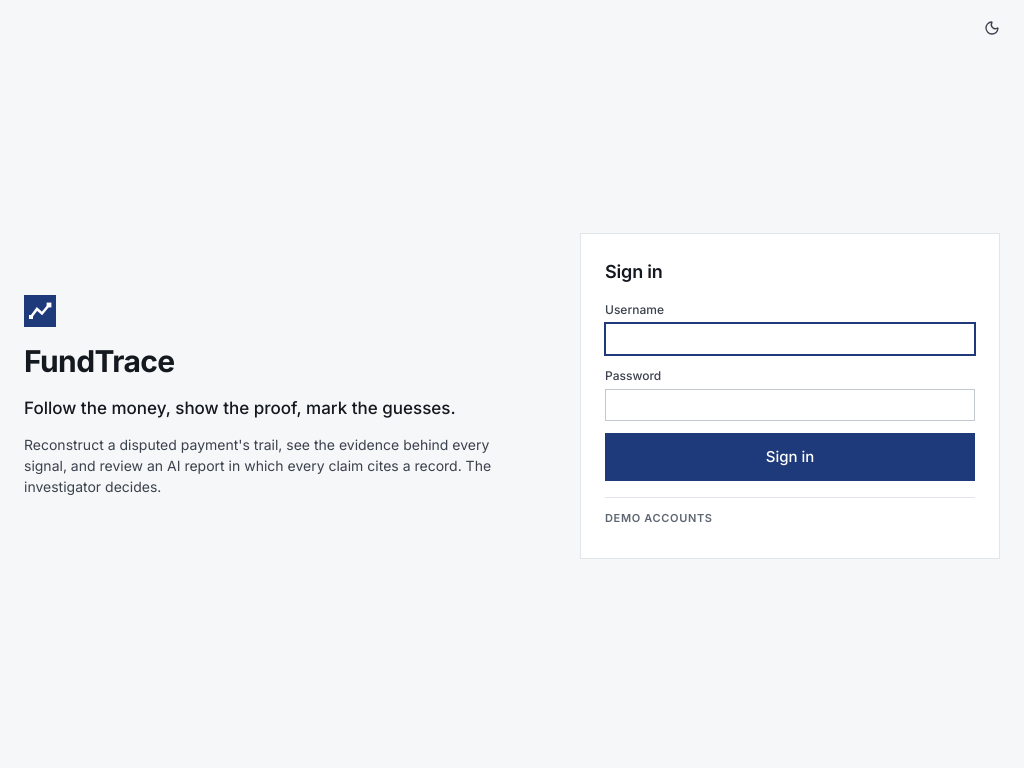
it: sign-in with MFA › offers a recovery code instead
The width and height of the screenshot is (1024, 768).
Step 1. Type "sup.meera" into the field labelled "Username" → x=790, y=339, box [605, 323, 975, 355]
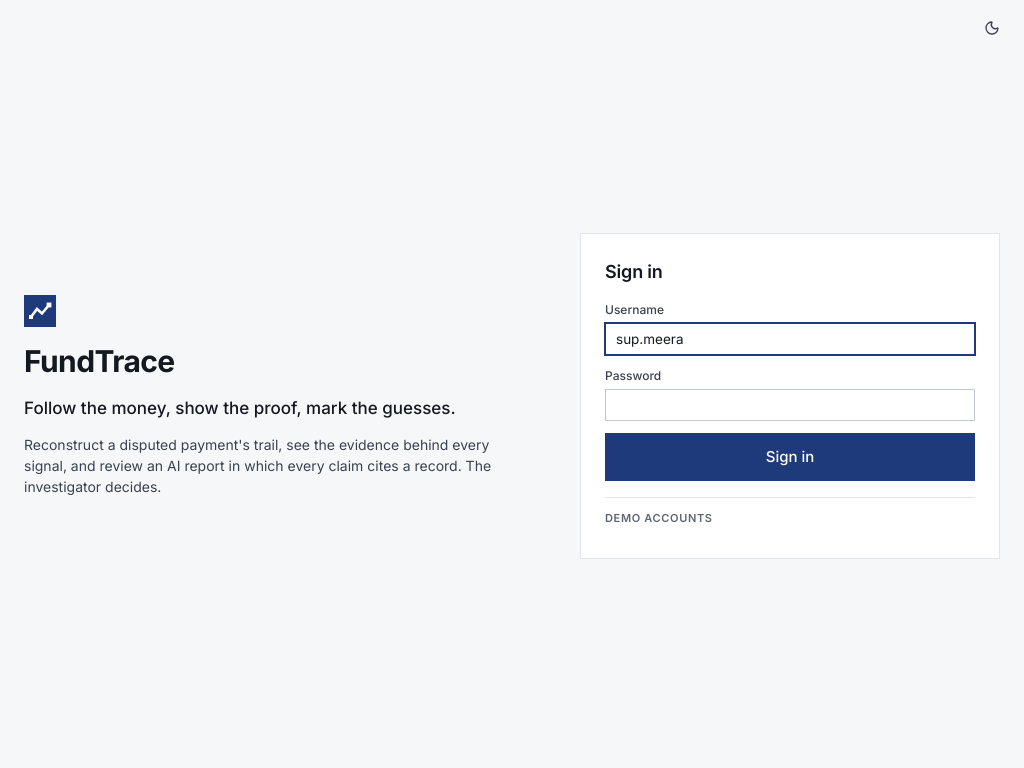
Step 2. Type "pw" into the password field labelled "Password" → x=790, y=405, box [605, 389, 975, 421]
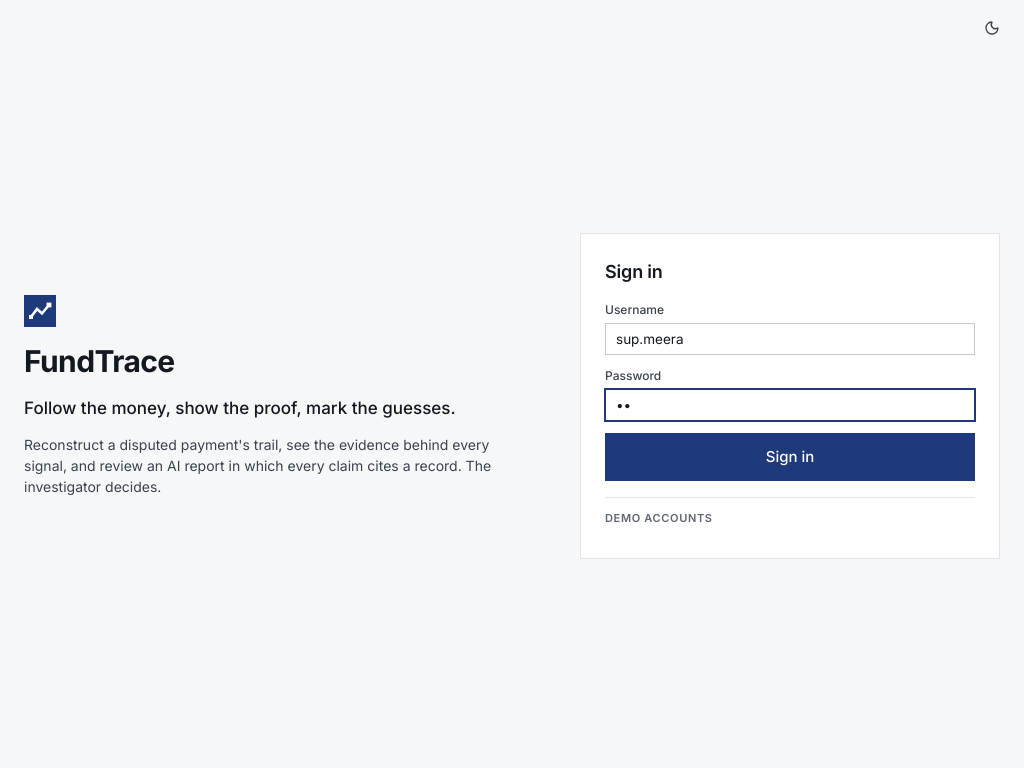
Step 3. Click the button "Sign in" → x=790, y=457, box [605, 433, 975, 481]
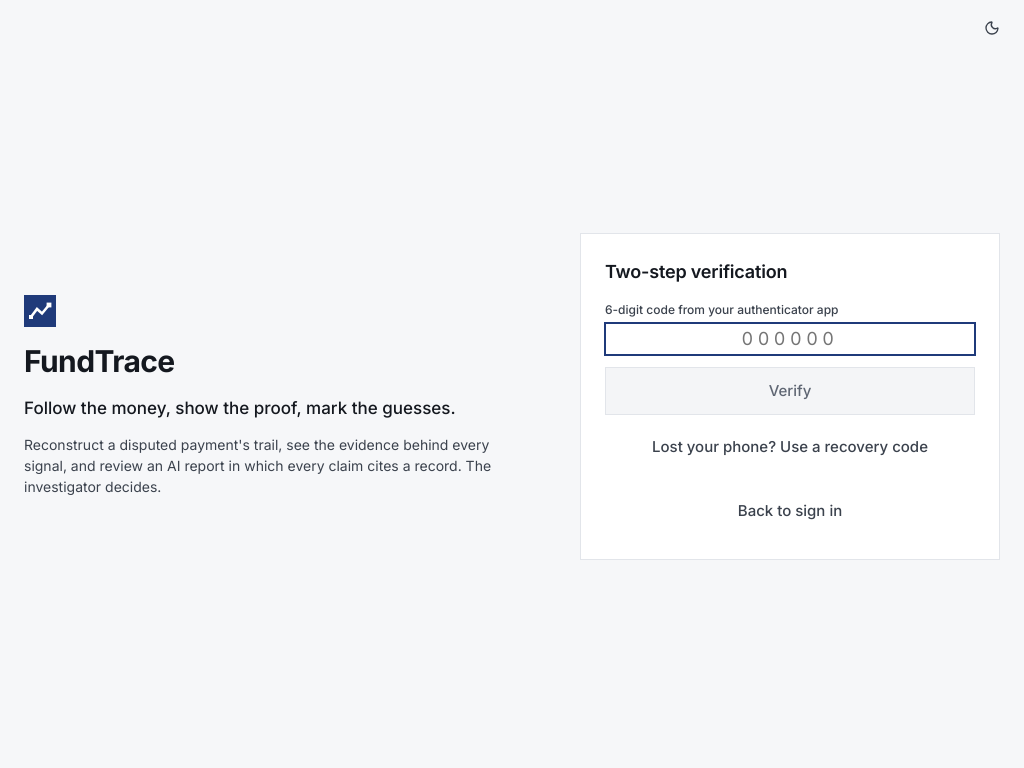
Step 4. Click the button "Lost your phone? Use a recovery code" → x=790, y=446, box [605, 422, 975, 470]
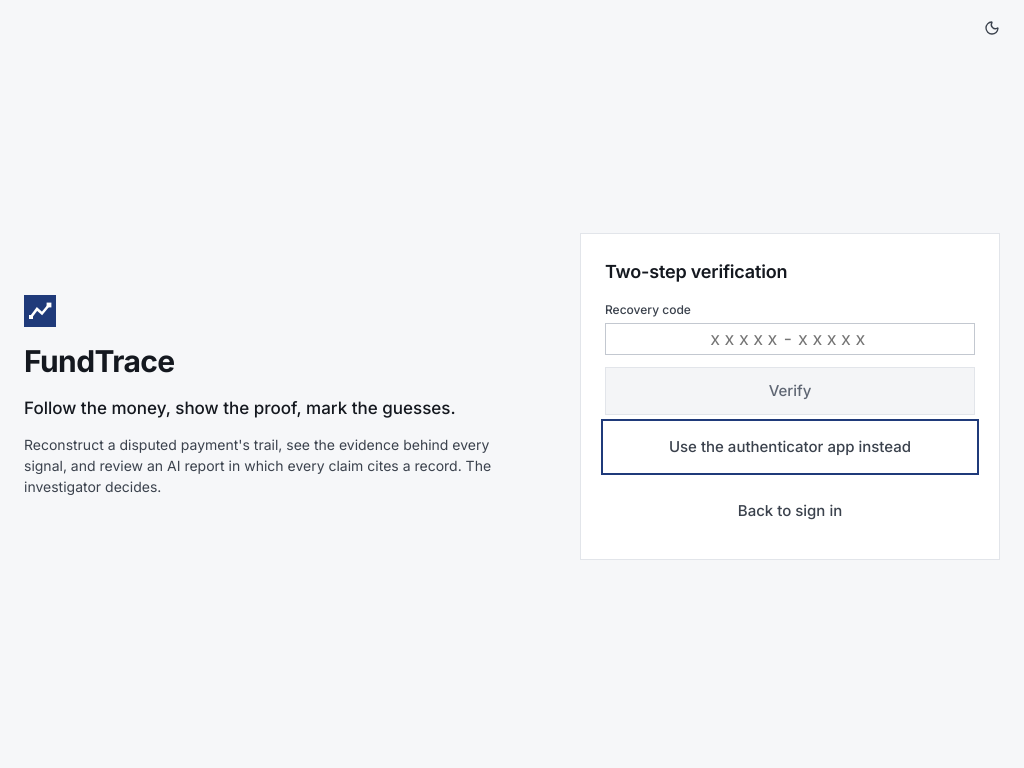
Step 5. Type "abcde-12345" into the field labelled "Recovery code" → x=790, y=338, box [605, 322, 975, 354]
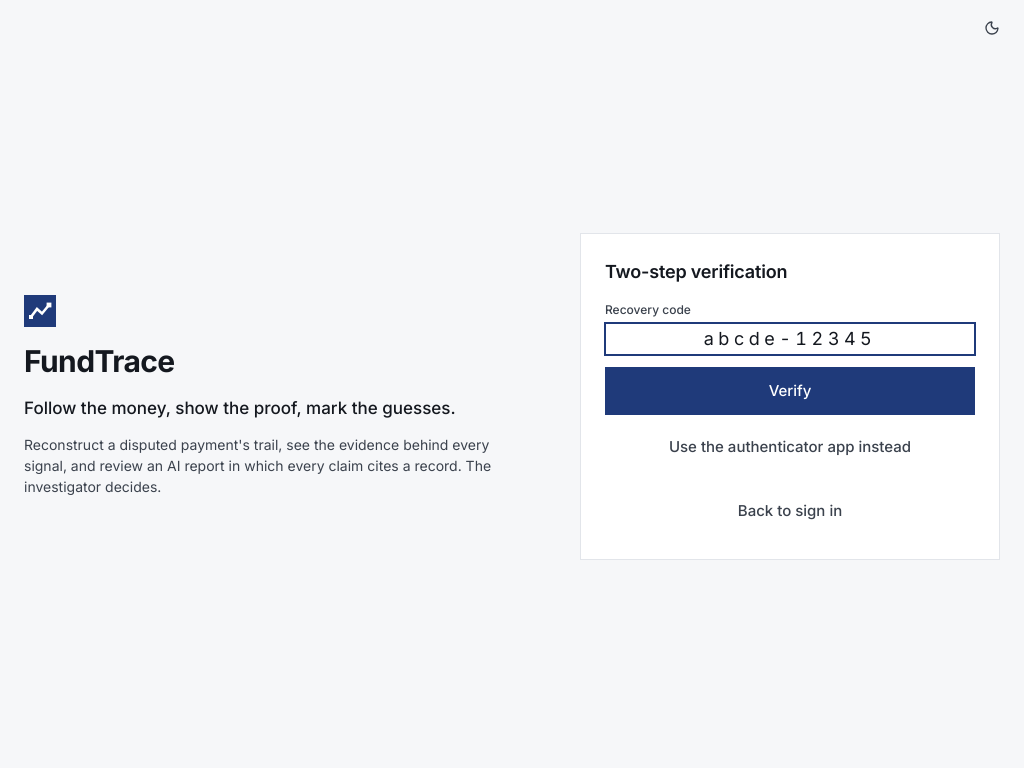
Step 6. Click the button "Verify" → x=790, y=390, box [605, 366, 975, 414]
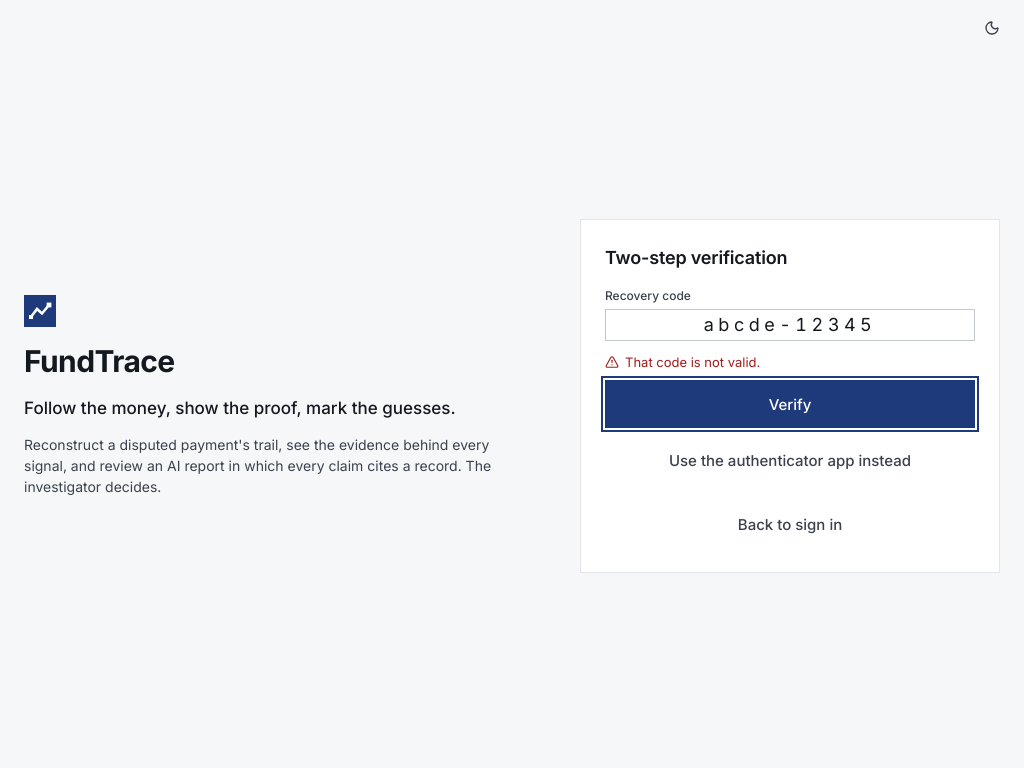
Expected: the text "That code is not valid." is shown, [605, 354, 760, 370]
